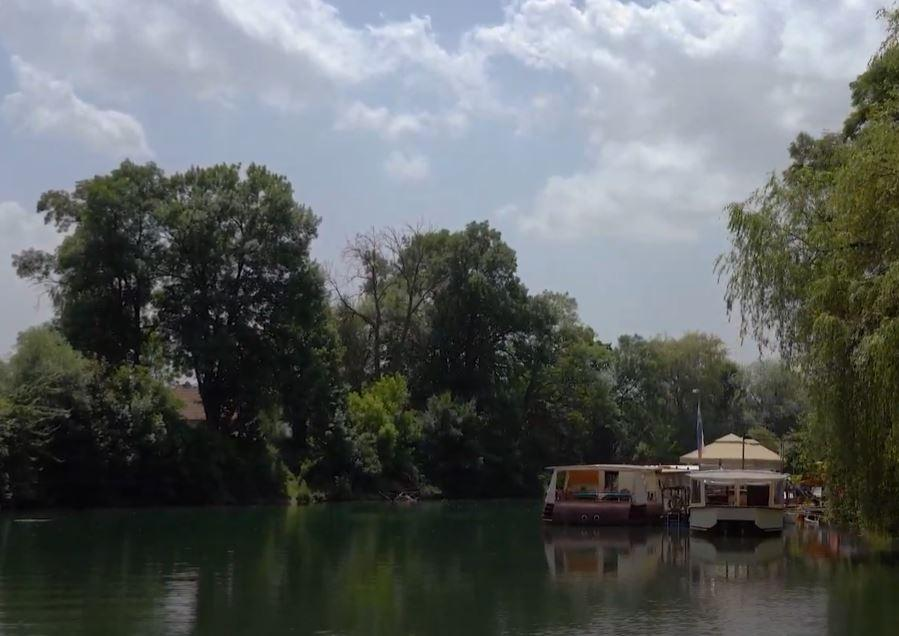Ship: (534, 447, 808, 551)
